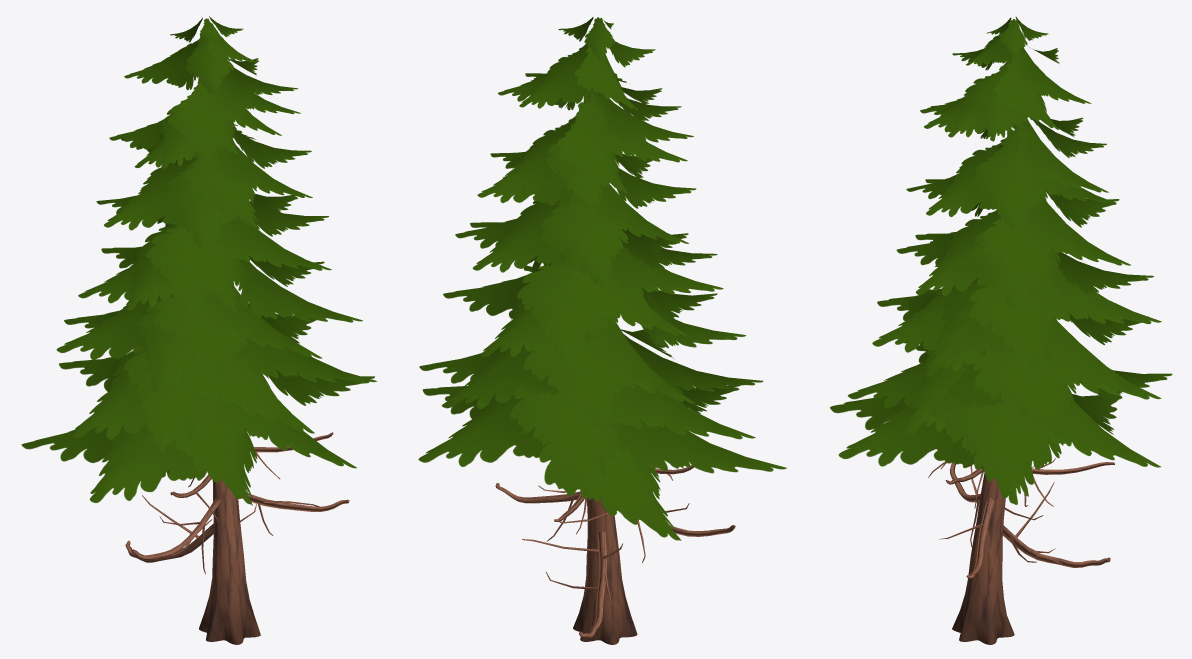
The model's file is frost_pine_a.glb.
3 renders of one model, left to right at view 1: azimuth 30°, elevation 25°; view 2: azimuth 150°, elevation 25°; view 3: azimuth 270°, elevation 25°, orthographic. The views are drawn at different scales.
Parts seen in each view (by area): view 1: Pine_4; view 2: Pine_4; view 3: Pine_4.
Boxes of the visible parts, bbox=[...] form: Pine_4: bbox=[21, 16, 377, 644]; Pine_4: bbox=[418, 17, 786, 644]; Pine_4: bbox=[830, 17, 1172, 644].
Bounding box in the file's own units: 5.8 × 10.24 × 5.37.
Materials: 2 (2 with a texture image).
